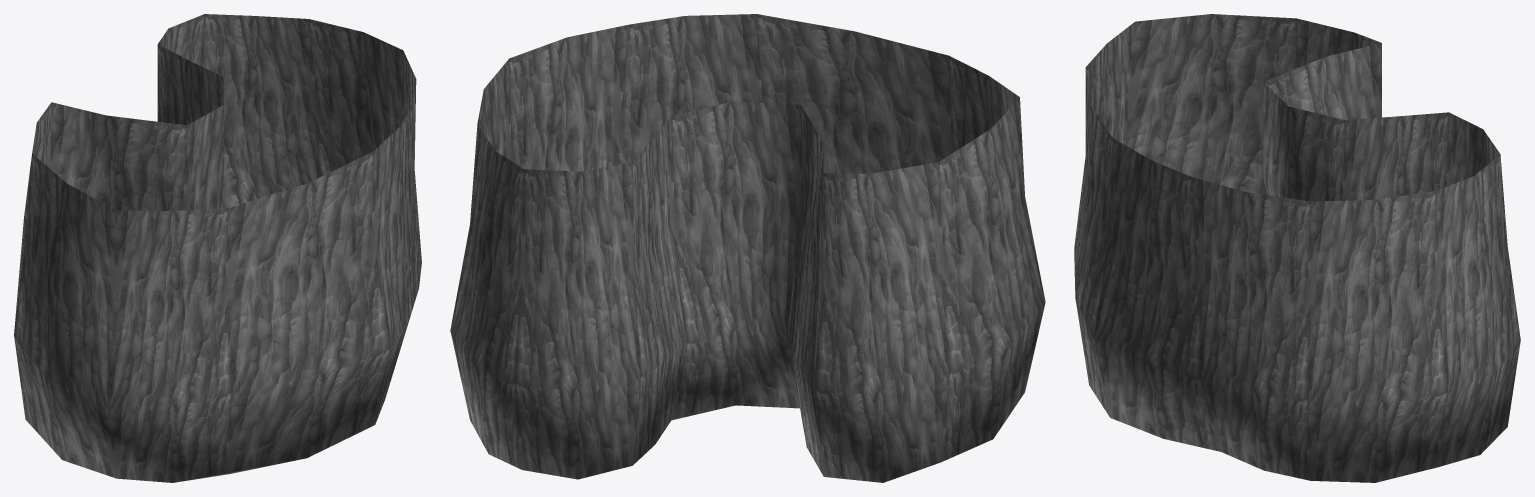
The model's file is SWORDLIGHT20_PS-AREA01_05.fbx.
3 views of the same model, side by side, from view 1: azimuth 30°, elevation 25°; view 2: azimuth 150°, elevation 25°; view 3: azimuth 270°, elevation 25° (orthographic). The views are drawn at different scales.
Visible parts, largest first — view 1: SWORDLIGHT20_PS-AREA01_05; view 2: SWORDLIGHT20_PS-AREA01_05; view 3: SWORDLIGHT20_PS-AREA01_05.
Boxes of the visible parts, x1,y1,x2,y2 form: SWORDLIGHT20_PS-AREA01_05: (14, 14, 421, 482); SWORDLIGHT20_PS-AREA01_05: (450, 14, 1045, 482); SWORDLIGHT20_PS-AREA01_05: (1074, 14, 1520, 482).
Size of the model in its own units: 228374 by 158719 by 208678.
4 materials, 4 textured.
